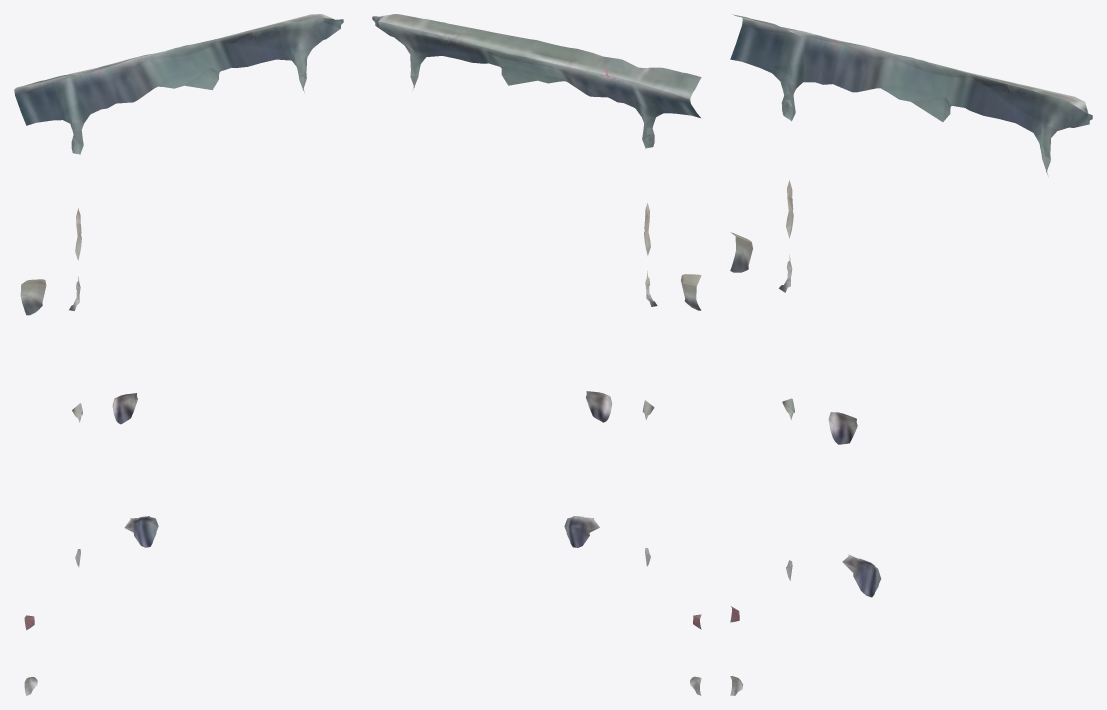
The model's file is Tile_+011_+009_L21_0000012700.glb.
3 renders of one model, left to right at view 1: azimuth 30°, elevation 25°; view 2: azimuth 150°, elevation 25°; view 3: azimuth 330°, elevation 25°, orthographic. The views are drawn at different scales.
Visible parts, largest first — view 1: rtc; view 2: rtc; view 3: rtc.
Boxes of the visible parts, x1,y1,x2,y2 form: rtc: (14, 14, 343, 695); rtc: (372, 14, 701, 695); rtc: (730, 14, 1092, 695).
Size of the model in its own units: 13.13 by 23.85 by 0.8628.
1 material, 1 textured.
